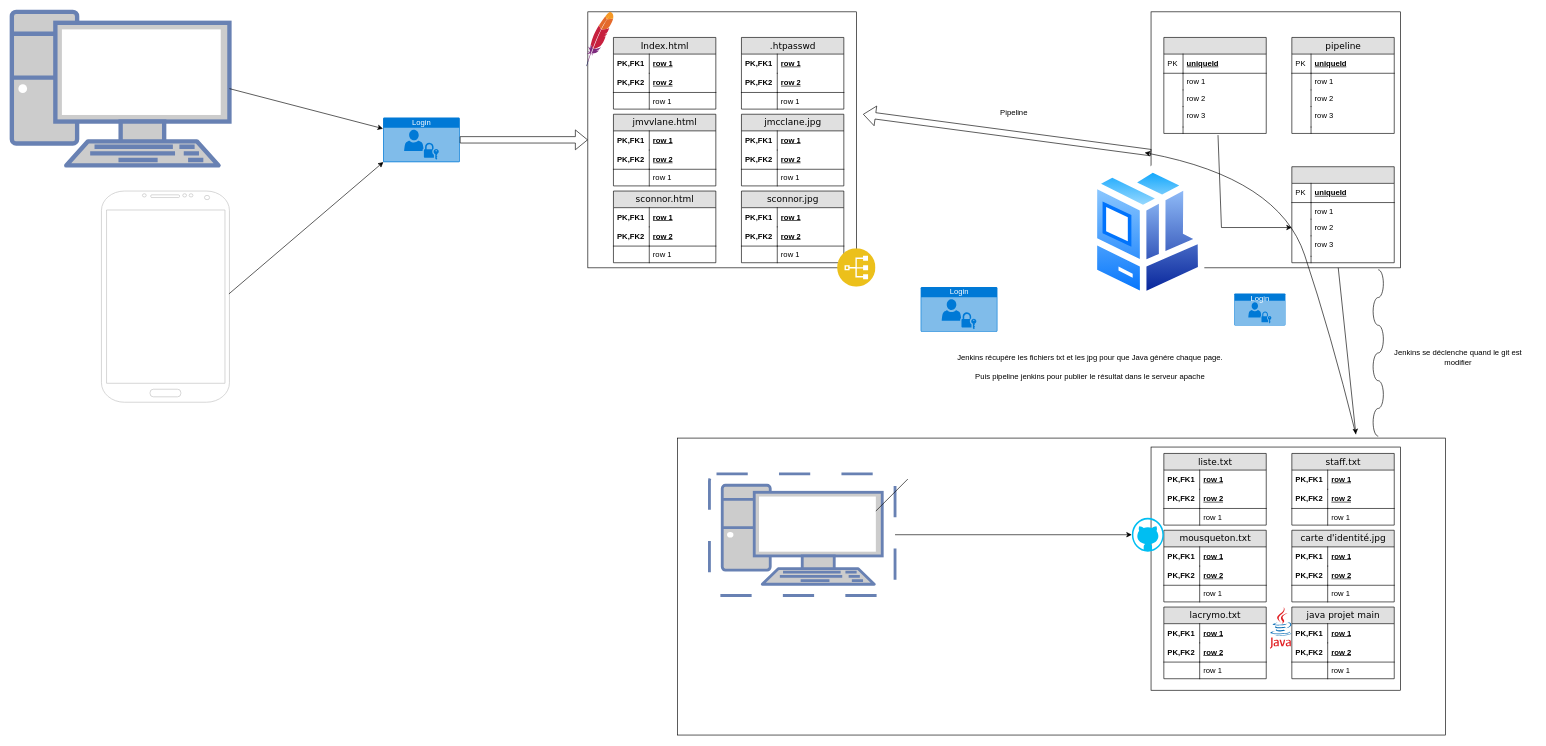
The diagram is 1546 pixels wide and 746 high, and some of its shapes have lost their labels. Each missing label, with the box of its shape:
build en coordination avec java: (1291, 166, 1394, 263)
pipeline(s): (1163, 37, 1266, 133)
